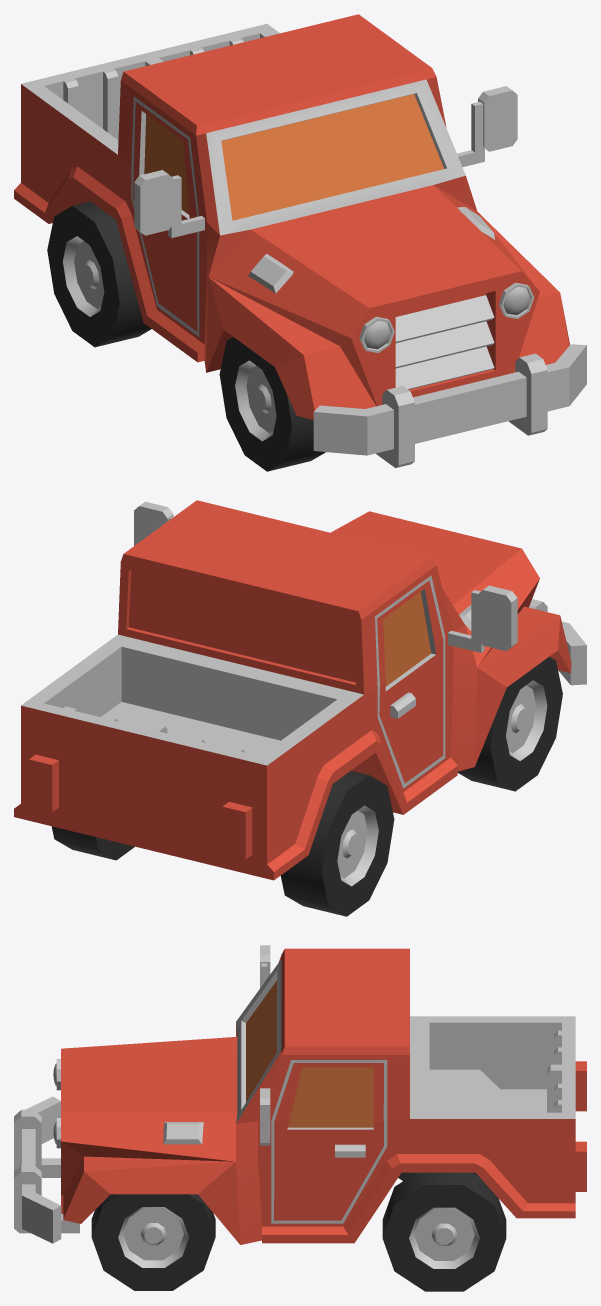
The model's file is Jeep.fbx.
The picture shows the model from 3 angles, top to bottom: view 1: azimuth 30°, elevation 25°; view 2: azimuth 150°, elevation 25°; view 3: azimuth 270°, elevation 25°; orthographic projection. The views are drawn at different scales.
Visible parts, largest first — view 1: Jeep, Jeep_wheel_back_right, Jeep_wheel_front_right; view 2: Jeep, Jeep_wheel_back_right, Jeep_wheel_front_right, Jeep_wheel_back_left; view 3: Jeep, Jeep_wheel_back_left, Jeep_wheel_front_left.
Part boxes in pixels (x1,y1,x2,y2): Jeep: [14, 14, 586, 467]; Jeep_wheel_back_right: [47, 201, 151, 347]; Jeep_wheel_front_right: [219, 337, 325, 471]; Jeep: [14, 500, 586, 880]; Jeep_wheel_back_right: [281, 770, 394, 916]; Jeep_wheel_front_right: [457, 656, 562, 791]; Jeep_wheel_back_left: [51, 826, 134, 860]; Jeep: [14, 945, 586, 1244]; Jeep_wheel_back_left: [382, 1172, 506, 1291]; Jeep_wheel_front_left: [91, 1194, 215, 1290].
Size of the model in its own units: 91.96 by 64.65 by 142.
